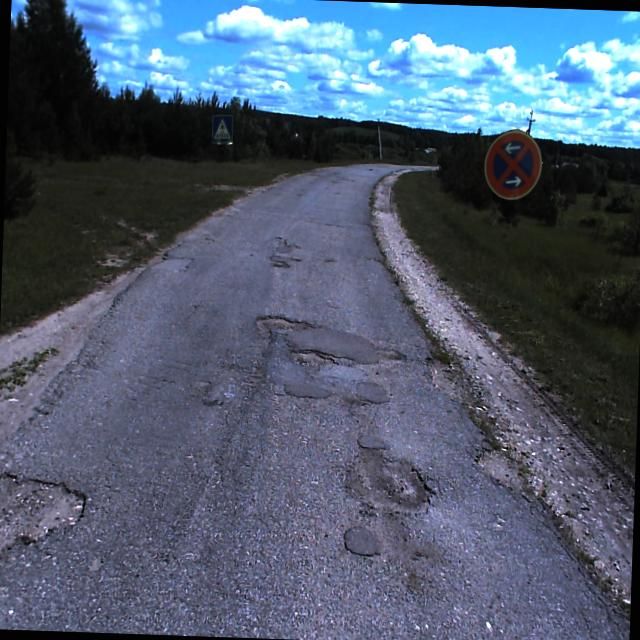road: (0, 162, 629, 640)
